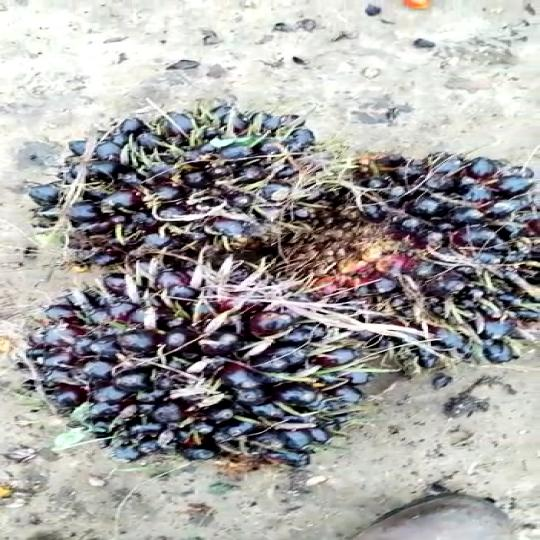mentah: (33, 273, 394, 478), (32, 103, 320, 270), (536, 142, 538, 143)
